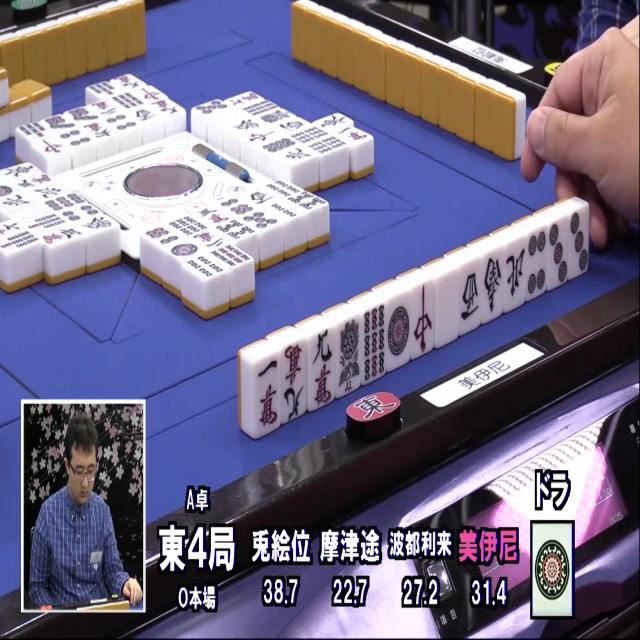bai: (435, 278, 459, 340)
m1: (253, 357, 284, 434)
m9: (308, 329, 338, 409), (280, 341, 309, 421)
north: (503, 242, 526, 311)
s1: (337, 318, 362, 394)
s9: (362, 305, 389, 386)
south: (482, 250, 504, 320)
t1: (535, 528, 570, 608), (385, 295, 412, 368)
t3: (548, 220, 572, 289), (566, 206, 589, 277)
t4: (525, 228, 549, 301)
west: (457, 262, 481, 333)
zhong: (411, 284, 434, 356)
